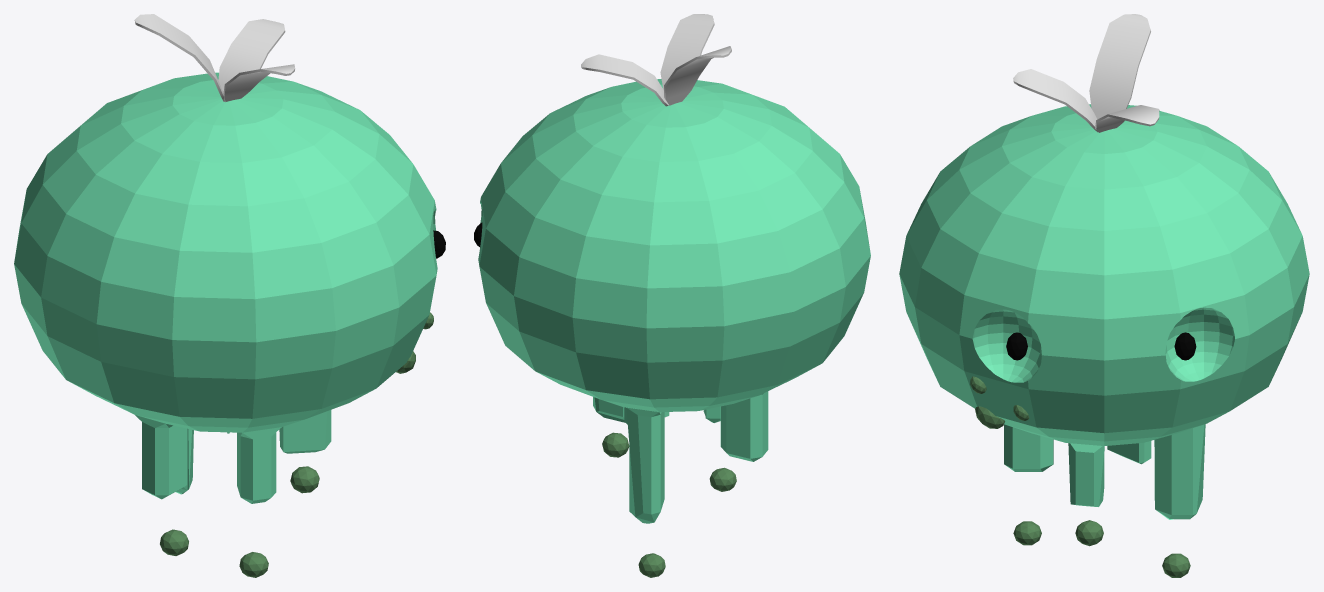
Rendered from pirito.fbx.
3 views of the same model, side by side, from view 1: azimuth 30°, elevation 25°; view 2: azimuth 150°, elevation 25°; view 3: azimuth 270°, elevation 25° (orthographic). The views are drawn at different scales.
Visible parts, largest first — view 1: Sphere, Grass, Icosphere.004, Icosphere.005, Icosphere.003; view 2: Sphere, Grass, Icosphere.004, Icosphere.005, Icosphere.003; view 3: Sphere, Grass, Icosphere.004, Icosphere.005, Icosphere.003.
Boxes of the visible parts, box(x1,y1,x2,y2) form: Sphere: box(14, 72, 437, 503); Grass: box(134, 14, 295, 101); Icosphere.004: box(290, 466, 319, 493); Icosphere.005: box(160, 529, 188, 555); Icosphere.003: box(239, 552, 268, 577); Sphere: box(478, 79, 870, 523); Grass: box(581, 14, 731, 106); Icosphere.004: box(602, 432, 629, 457); Icosphere.005: box(638, 553, 665, 577); Icosphere.003: box(709, 467, 736, 491); Sphere: box(899, 104, 1309, 519); Grass: box(1013, 14, 1159, 132); Icosphere.004: box(1075, 520, 1103, 546); Icosphere.005: box(1162, 553, 1190, 577); Icosphere.003: box(1013, 521, 1041, 545).
Size of the model in its own units: 200 by 288 by 200.
